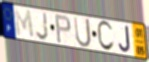C: (96, 19, 115, 53)
J: (35, 11, 50, 42), (118, 25, 132, 54)
M: (13, 7, 36, 40)
P: (54, 14, 72, 45)
U: (73, 16, 92, 49)
